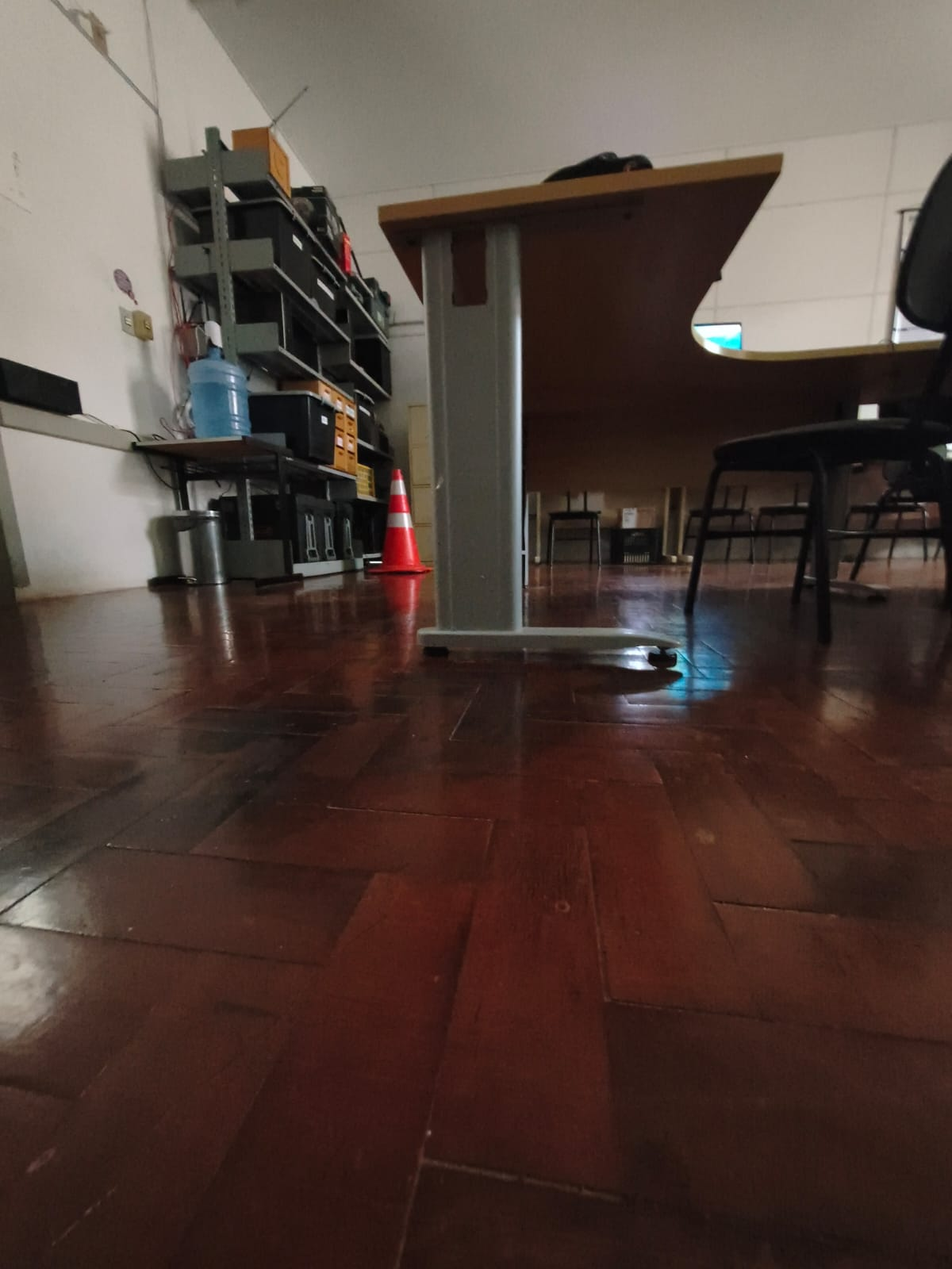cone: (376, 463, 425, 576)
